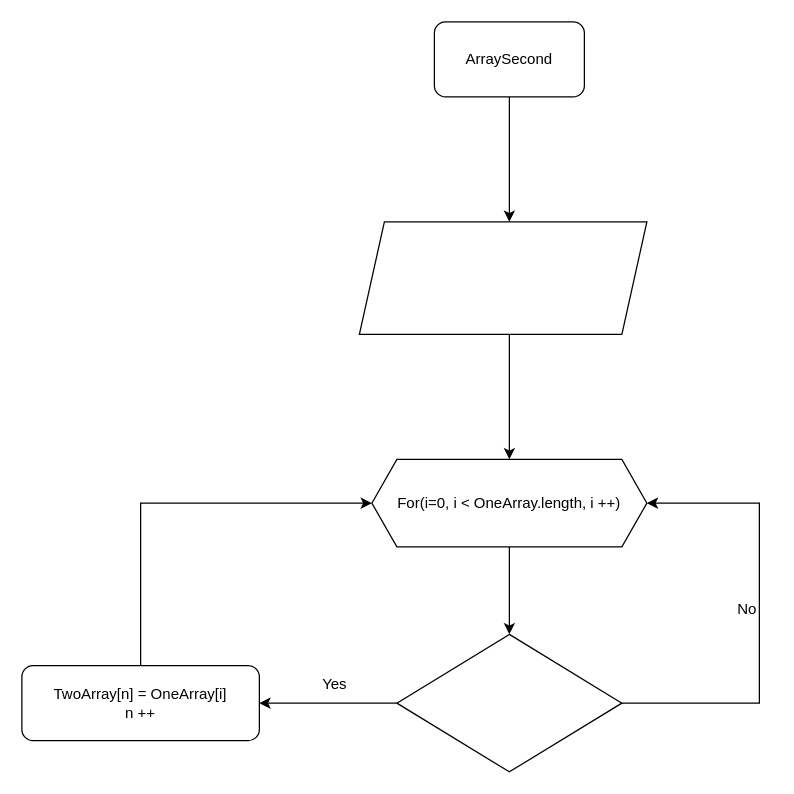
The diagram is 794 pixels wide and 794 high, and some of its shapes have lost their labels. Each missing label, with the box of its shape:
if(OneArray[i] < 3): (396, 633, 622, 772)
StringOneArray StringTwoArray Int n = 0: (358, 221, 647, 334)
